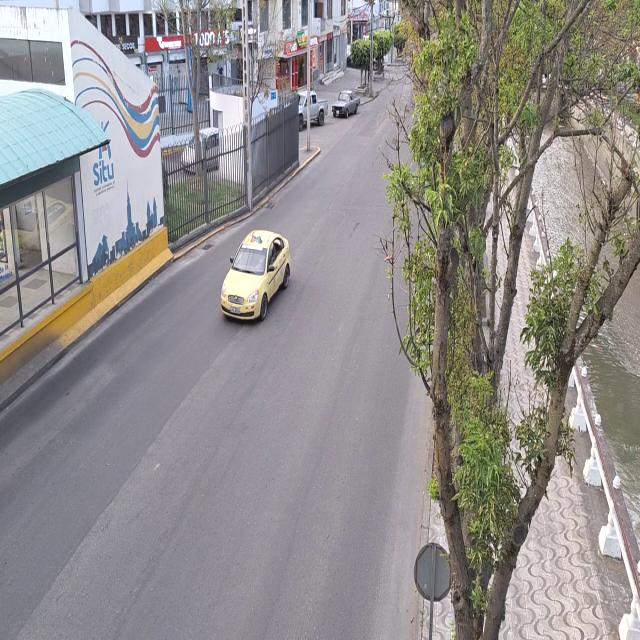CMT: (298, 90, 329, 125), (332, 90, 361, 121)
SED: (220, 228, 291, 322)
